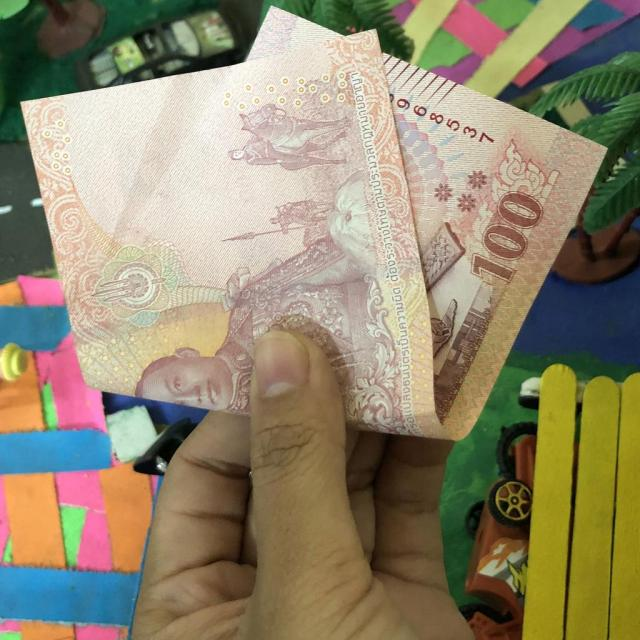THAI100: (22, 9, 604, 440)
